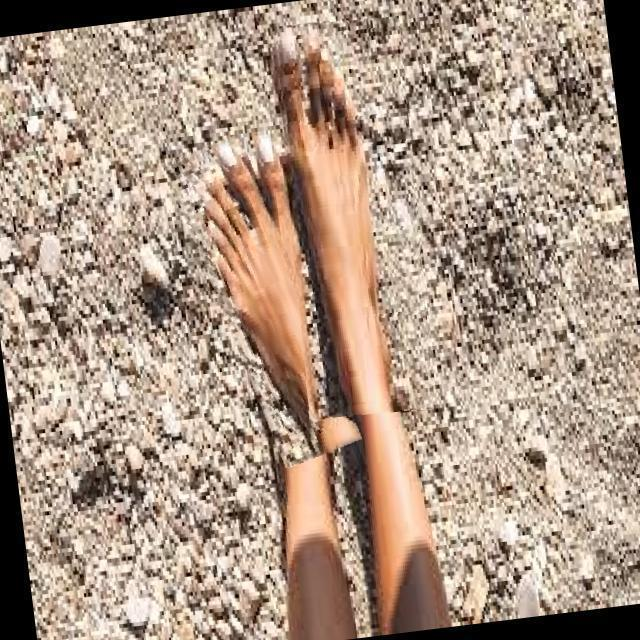No_Shoes: (170, 114, 340, 466), (260, 27, 393, 442)
